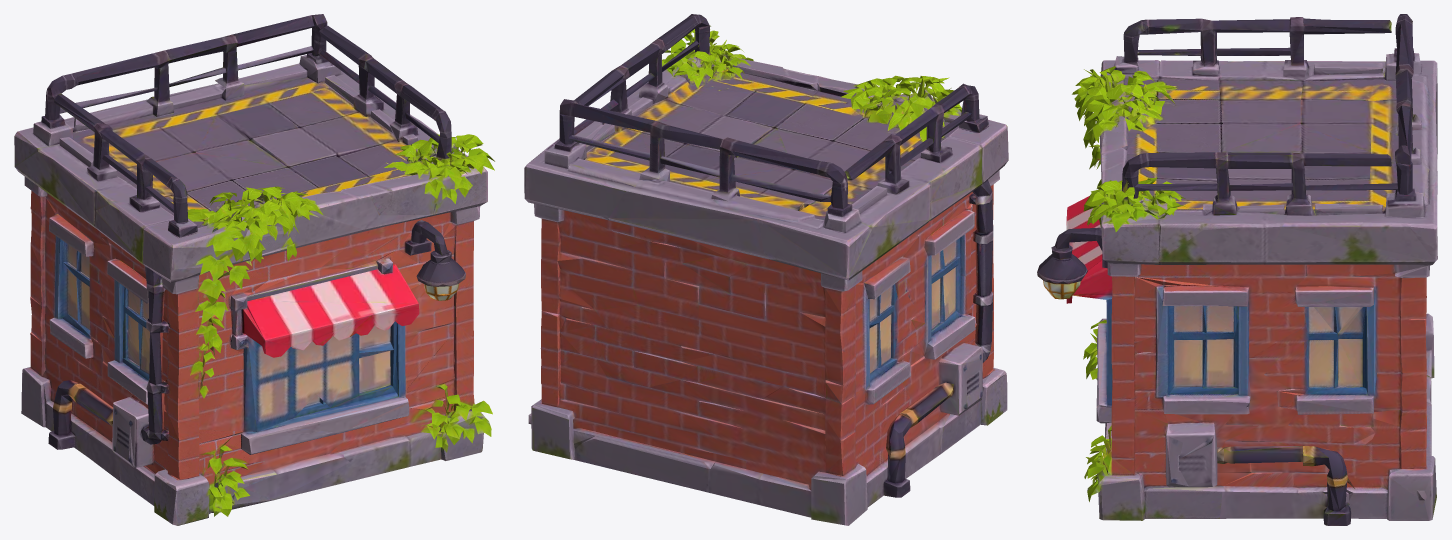
The model's file is brick_building.glb.
3 views of the same model, side by side, from view 1: azimuth 30°, elevation 25°; view 2: azimuth 150°, elevation 25°; view 3: azimuth 270°, elevation 25° (orthographic). The views are drawn at different scales.
Visible parts, largest first — view 1: output_unwrapped; view 2: output_unwrapped; view 3: output_unwrapped.
Part boxes in pixels (x1,y1,x2,y2): output_unwrapped: (14, 14, 494, 525); output_unwrapped: (524, 14, 1008, 525); output_unwrapped: (1037, 14, 1437, 525).
Size of what is drawn, in the model's own units: 1.05 by 1 by 1.
Materials: 1 (1 with a texture image).
